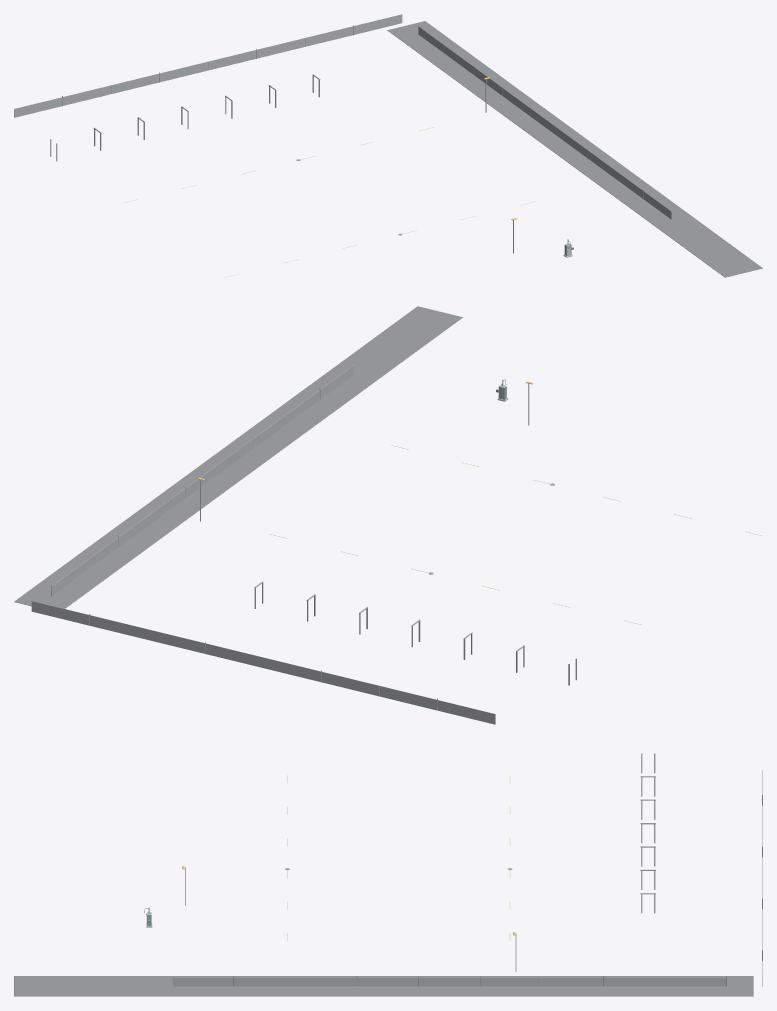
The picture shows the model from 3 angles, top to bottom: view 1: azimuth 30°, elevation 25°; view 2: azimuth 150°, elevation 25°; view 3: azimuth 270°, elevation 25°; orthographic projection. The views are drawn at different scales.
Parts seen in each view (by area): view 1: render-batch-2, render-batch-6, render-batch-4; view 2: render-batch-2, render-batch-6, render-batch-4; view 3: render-batch-2, render-batch-6, render-batch-4.
Boxes of the visible parts, x1,y1,x2,y2 form: render-batch-2: (387,21,762,277); render-batch-6: (14,14,671,219); render-batch-4: (50,25,643,253); render-batch-2: (14,306,462,608); render-batch-6: (31,365,524,724); render-batch-4: (51,383,576,710); render-batch-2: (14,976,753,996); render-batch-6: (172,770,762,986); render-batch-4: (185,753,762,986).
Bounding box in the file's own units: 88.29 × 7.08 × 125.
